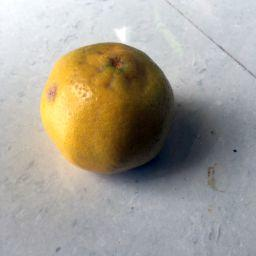Ripe: (41, 45, 175, 171)
